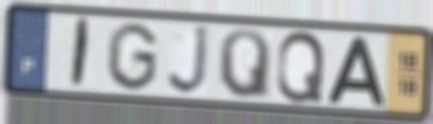A: (325, 34, 388, 109)
G: (103, 20, 161, 93)
I: (68, 15, 94, 91)
J: (165, 23, 212, 98)
Q: (216, 26, 272, 102), (274, 28, 328, 105)
